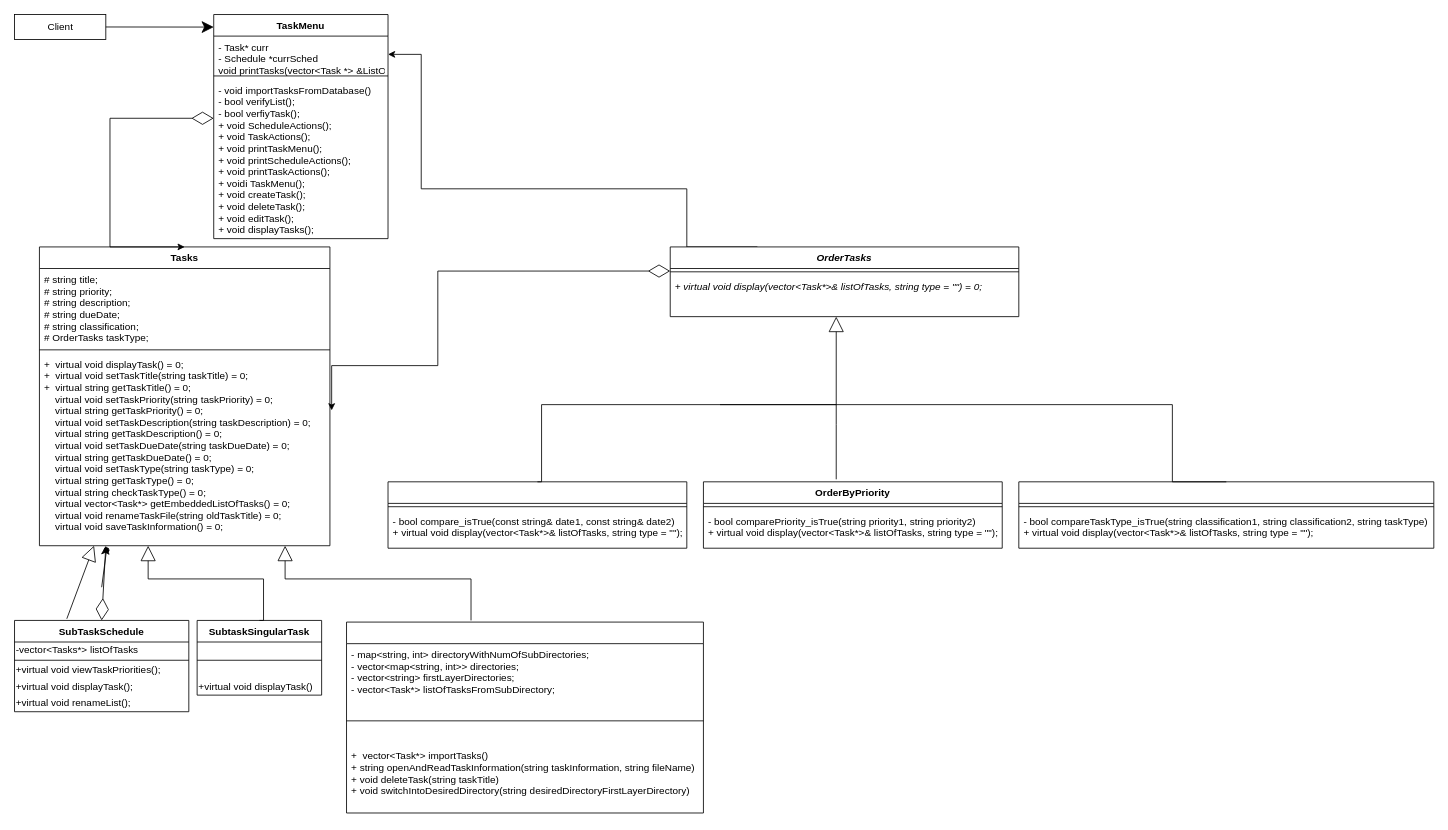
Image size: 1448x830. Some labels were removed from this diagram. Each missing label, with the box of its shape:
OrderByDueDate: (387, 481, 687, 548)
OrderByTaskType: (1018, 481, 1434, 548)
SetupTaskFiles: (346, 621, 703, 813)
